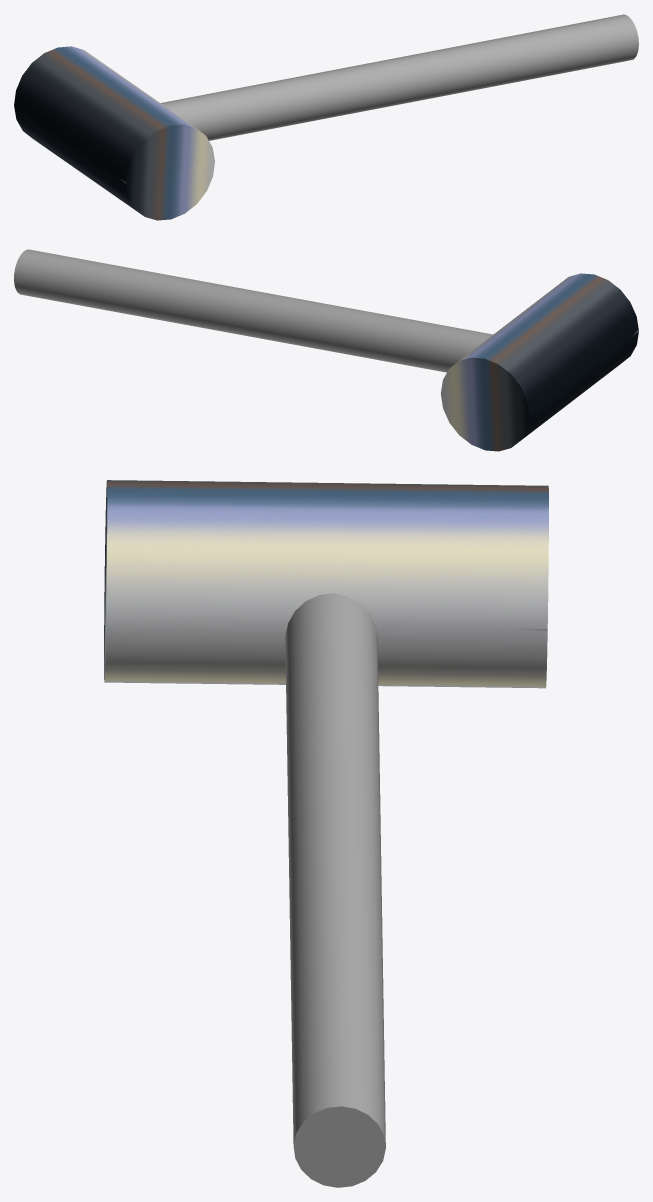
File: repair_hammer.fbx
3 views of the same model, one above another, from view 1: azimuth 30°, elevation 25°; view 2: azimuth 150°, elevation 25°; view 3: azimuth 270°, elevation 25° (orthographic). The views are drawn at different scales.
Visible parts, largest first — view 1: polySurface1; view 2: polySurface1; view 3: polySurface1.
Part boxes in pixels (x1,y1,x2,y2): polySurface1: [14, 14, 638, 220]; polySurface1: [14, 249, 638, 451]; polySurface1: [104, 480, 548, 1187].
Bounding box in the file's own units: 25.49 × 4.4 × 8.82.
Materials: 2 (1 with a texture image).
